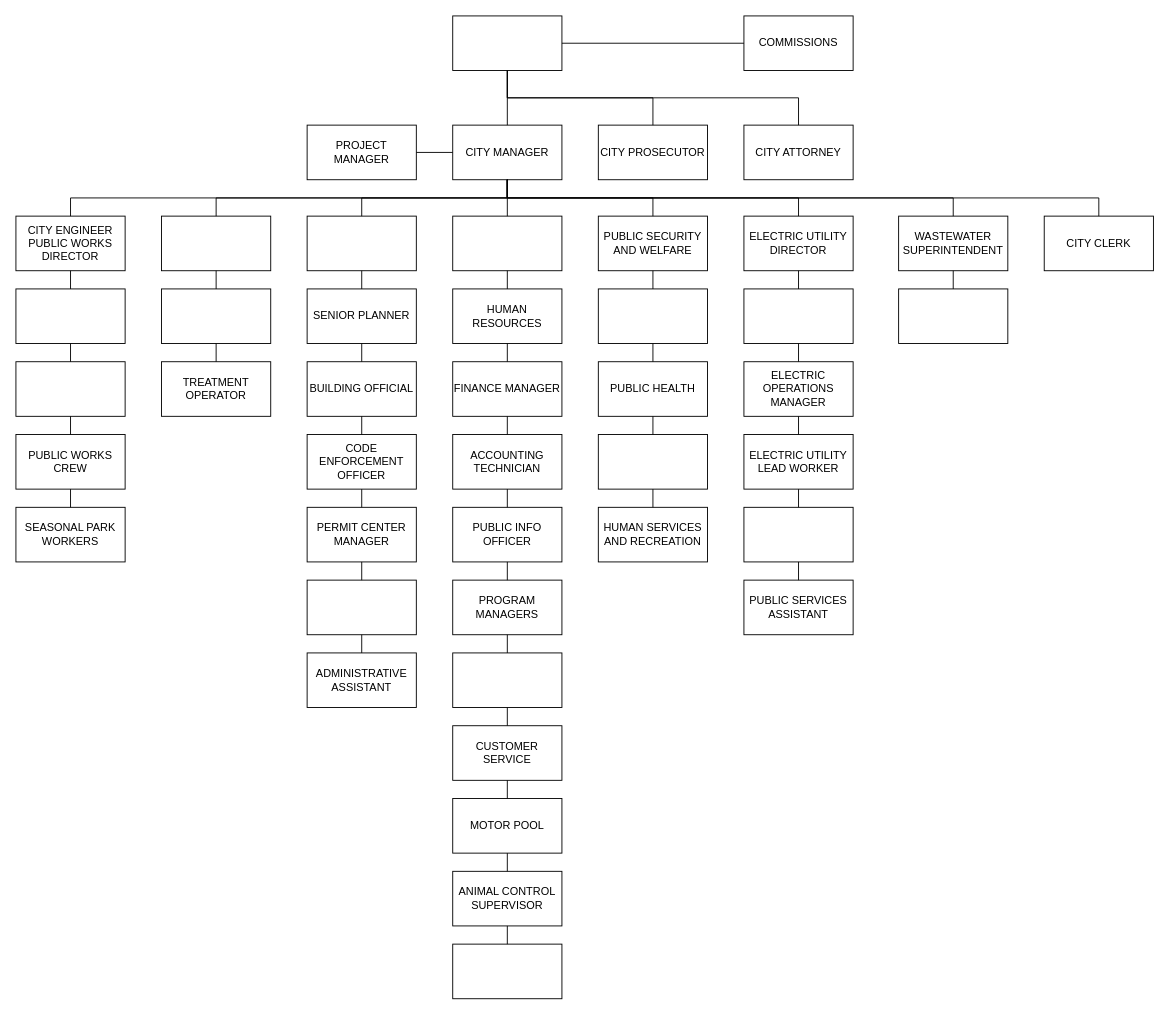
The diagram is 1169 pixels wide and 1015 high, and some of its shapes have lost their labels. Each missing label, with the centre of its shape:
"ANIMAL CONTROL OFFICERS" goes at point 507,971.
"ASSISTANT CITY MANAGER" goes at point 507,243.
"ASSISTANT ELECTRIC UTILITY DIRECTOR" goes at point 798,316.
"BUILDING INSPECTOR" goes at point 361,607.
"CITY COUNCIL" goes at point 507,43.
"DEVELOPMENT SERVICES DIRECTOR" goes at point 361,243.
"FIRE DEPARTMENT" goes at point 652,316.
"LINEMEN" goes at point 798,534.
"POLICE DEPARTMENT" goes at point 652,461.
"PUBLIC WORKS LEAD WORKER" goes at point 70,388.
"PUBLIC WORKS SUPERVISOR" goes at point 70,316.
"SENIOR TREATMENT OPERATOR" goes at point 216,316.
"UTILITY BILLING TECHNICIAN" goes at point 507,680.
"WASTEWATER OPERATORS" goes at point 953,316.
"WATER TREATMENT SUPERINTENDENT" goes at point 216,243.
